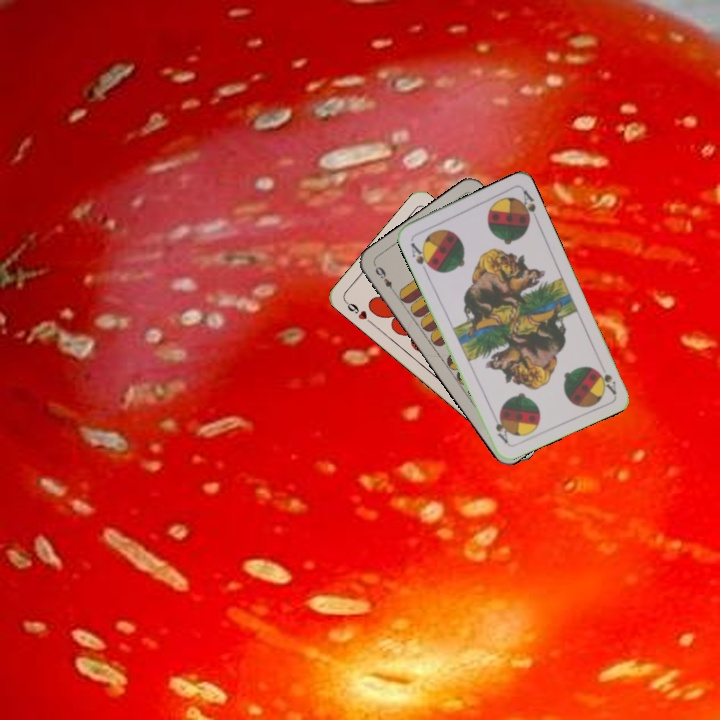E9: (371, 262, 398, 297)
H9: (341, 297, 375, 327)
SA: (591, 358, 619, 397), (406, 238, 435, 275)
